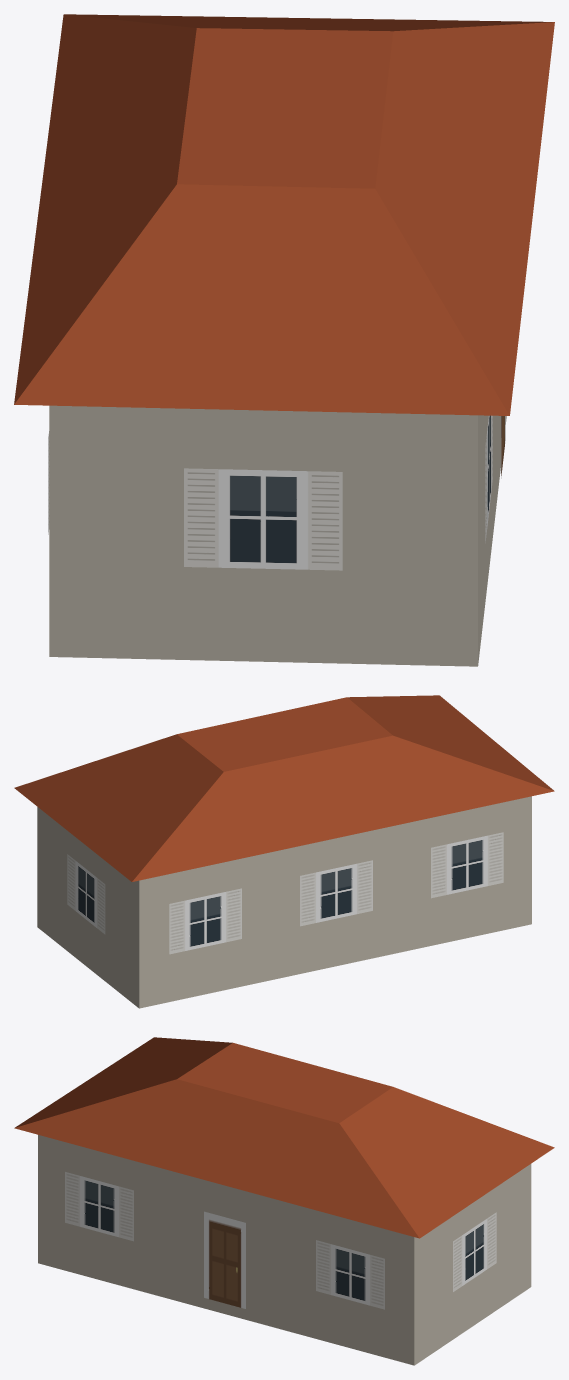
Rendered from msb_sannicolas_23_28.glb.
3 views of the same model, one above another, from view 1: azimuth 30°, elevation 25°; view 2: azimuth 150°, elevation 25°; view 3: azimuth 270°, elevation 25° (orthographic). The views are drawn at different scales.
Visible parts, largest first — view 1: msb_sannicolas_23_28_lod0; view 2: msb_sannicolas_23_28_lod0; view 3: msb_sannicolas_23_28_lod0.
Part boxes in pixels (left/top/right/bottom): msb_sannicolas_23_28_lod0: left=14, top=14, right=554, bottom=666; msb_sannicolas_23_28_lod0: left=14, top=695, right=554, bottom=1008; msb_sannicolas_23_28_lod0: left=14, top=1037, right=554, bottom=1365.
Size of what is drawn, in the model's own units: 11.01 by 4.9 by 12.5.
Materials: 2 (1 with a texture image).
